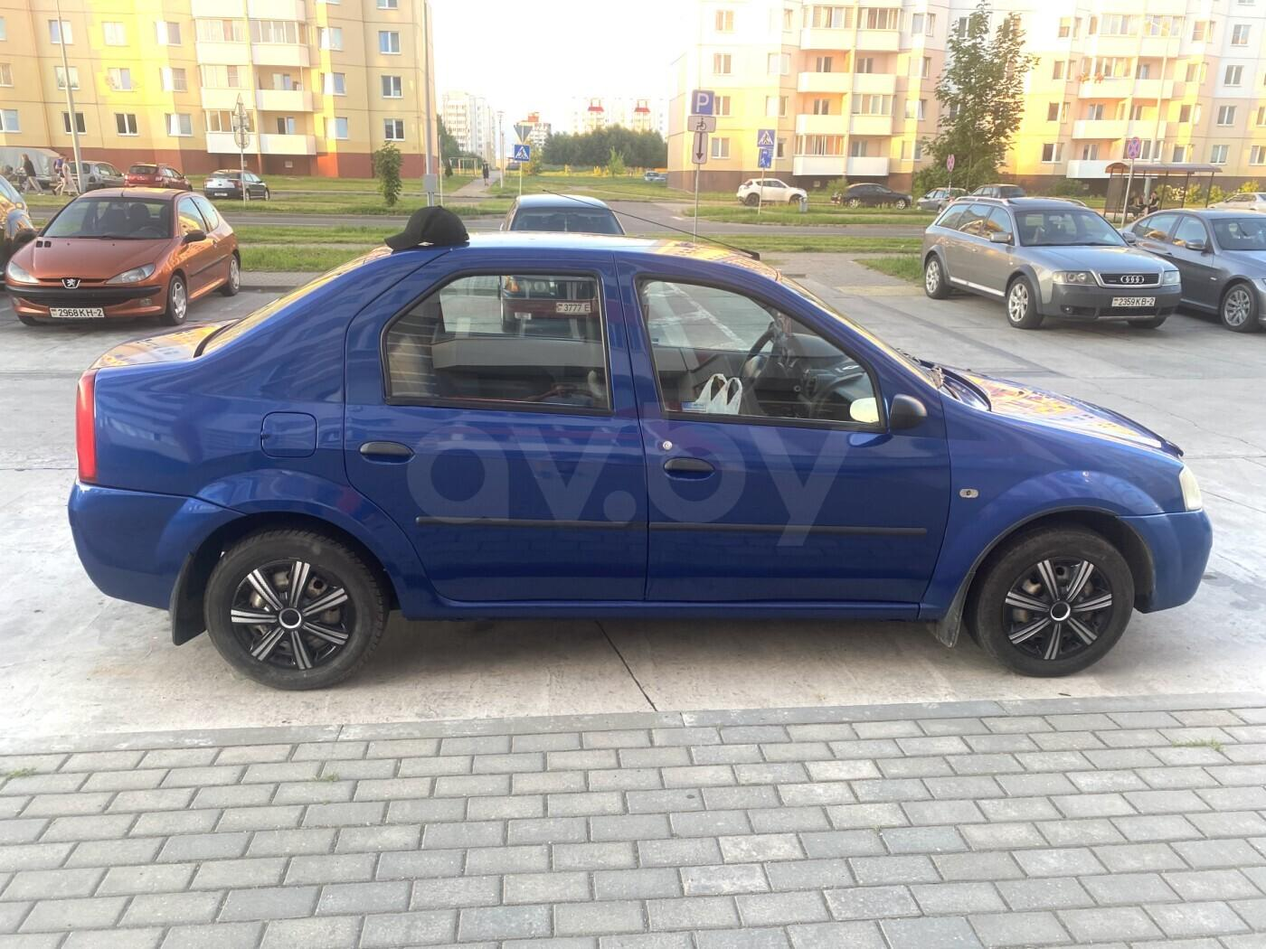Logan_2004-2009: (66, 222, 1219, 701)
